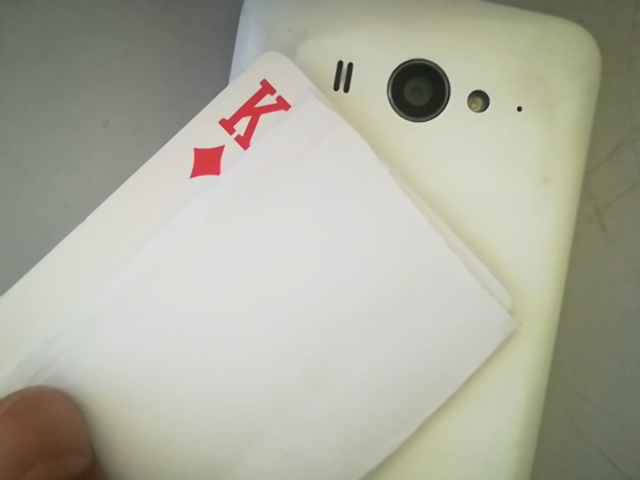fk k: (180, 70, 300, 183)
